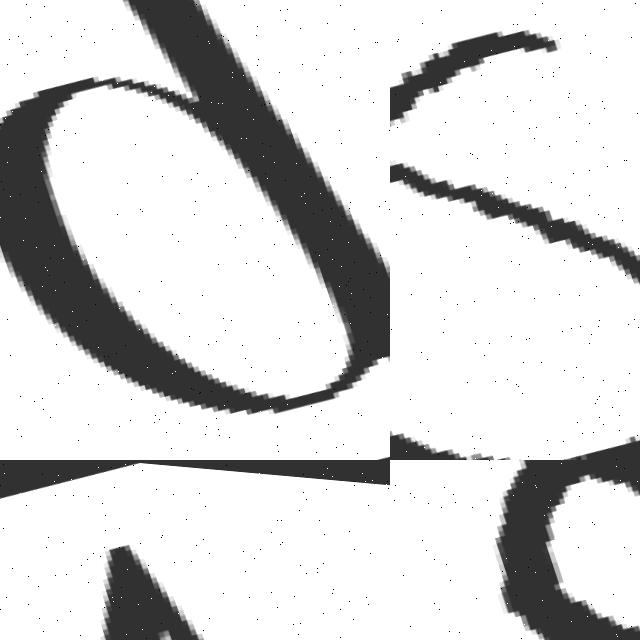2: (390, 0, 640, 460)
8: (390, 460, 640, 640)
Q: (0, 0, 390, 460)
V: (0, 460, 390, 640)
